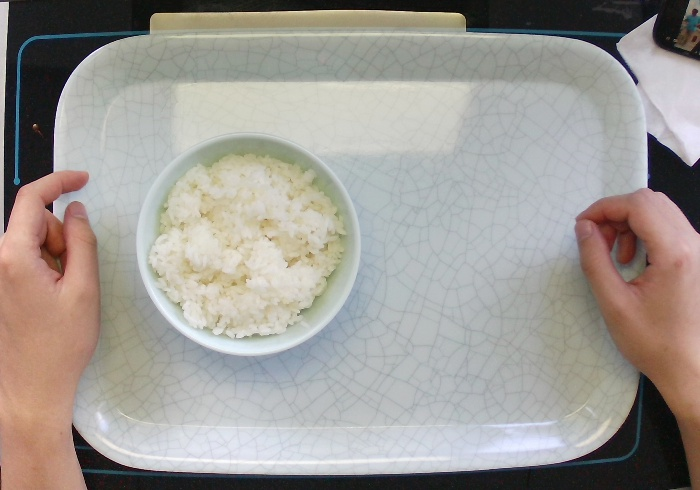JYsf-Fan_Wan: (139, 133, 361, 354)
